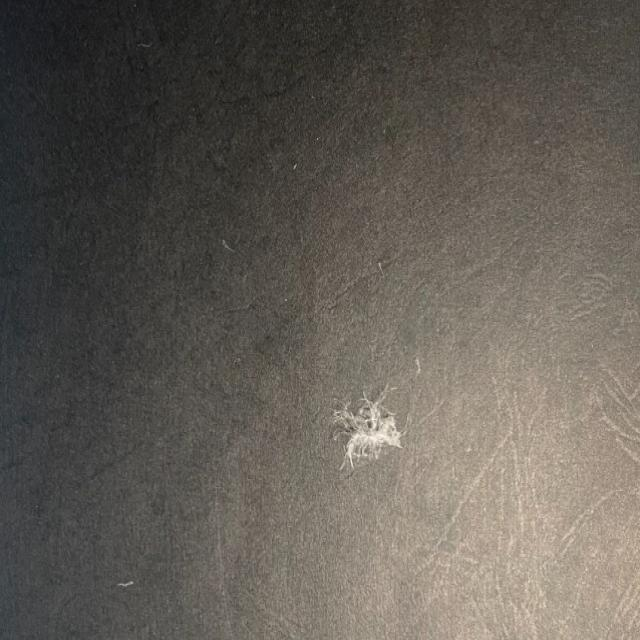feather: (329, 380, 407, 468)
